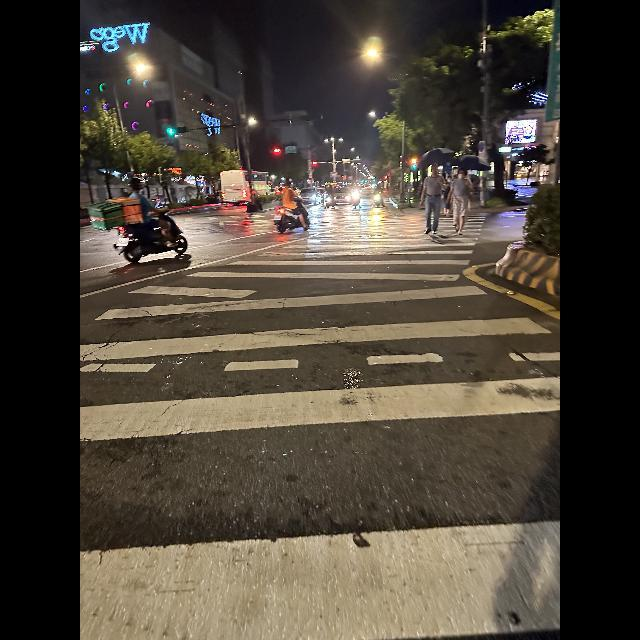sidewalk: (83, 217, 560, 634)
